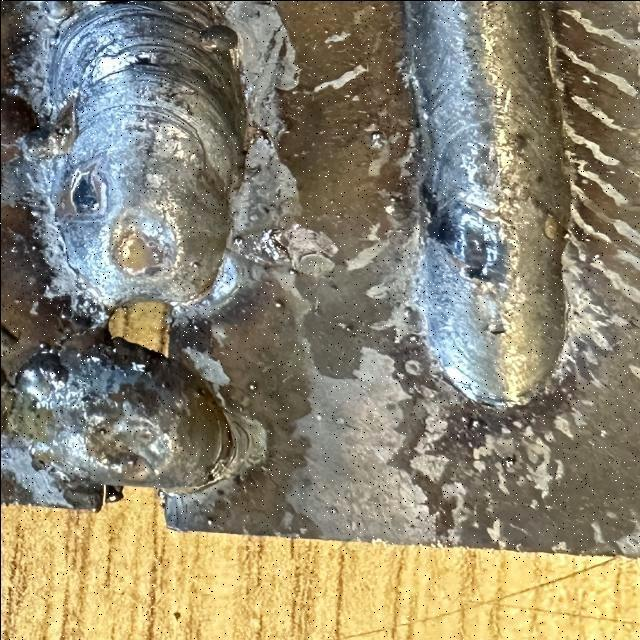Excess Reinforcement: (199, 409, 267, 489)
Spatters: (15, 351, 67, 400), (200, 24, 237, 50), (40, 0, 73, 21), (459, 415, 485, 431), (367, 131, 385, 149), (125, 455, 140, 468), (402, 306, 413, 320), (503, 456, 515, 468), (337, 323, 353, 331), (233, 235, 243, 245), (273, 299, 283, 308), (38, 341, 48, 349), (328, 506, 337, 514), (287, 268, 297, 275), (190, 261, 200, 268), (408, 334, 417, 341), (98, 428, 107, 434), (248, 383, 255, 390), (207, 518, 212, 525)
